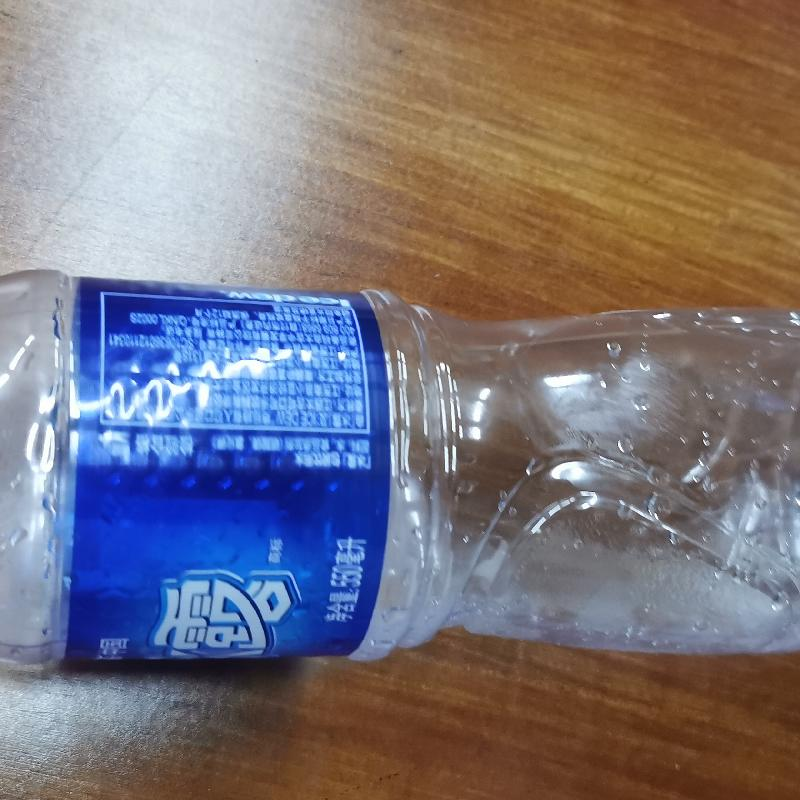bottles: (4, 263, 799, 681)
